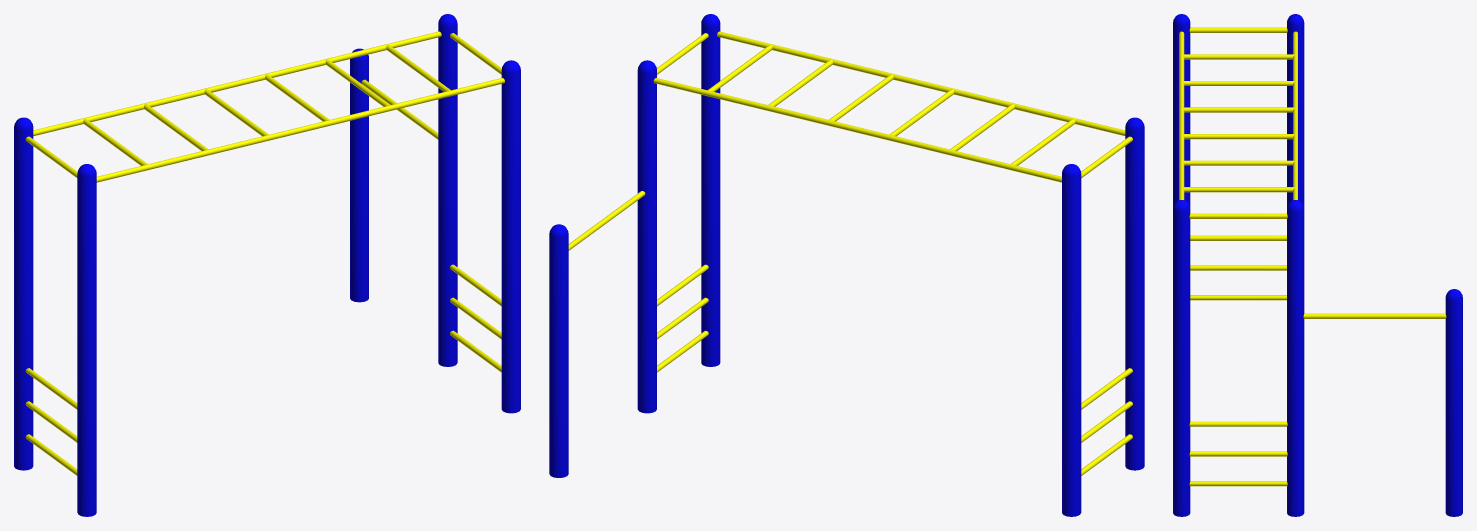
Rendered from 7_ladder.fbx.
The picture shows the model from 3 angles, left to right: view 1: azimuth 30°, elevation 25°; view 2: azimuth 150°, elevation 25°; view 3: azimuth 270°, elevation 25°; orthographic projection. The views are drawn at different scales.
Parts seen in each view (by area): view 1: monkey_bar_LOD_0_monkey_bar_mesh_26, monkey_bar_LOD_0_monkey_bar_mesh_25, monkey_bar_LOD_0_monkey_bar_mesh_27, monkey_bar_LOD_0_monkey_bar_mesh_24, monkey_bar_LOD_0_monkey_bar_mesh_23, monkey_bar_LOD_0_monkey_bar_mesh_9, monkey_bar_LOD_0_monkey_bar_mesh_8; view 2: monkey_bar_LOD_0_monkey_bar_mesh_27, monkey_bar_LOD_0_monkey_bar_mesh_24, monkey_bar_LOD_0_monkey_bar_mesh_26, monkey_bar_LOD_0_monkey_bar_mesh_25, monkey_bar_LOD_0_monkey_bar_mesh_23, monkey_bar_LOD_0_monkey_bar_mesh_8, monkey_bar_LOD_0_monkey_bar_mesh_9; view 3: monkey_bar_LOD_0_monkey_bar_mesh_24, monkey_bar_LOD_0_monkey_bar_mesh_25, monkey_bar_LOD_0_monkey_bar_mesh_23, monkey_bar_LOD_0_monkey_bar_mesh_27, monkey_bar_LOD_0_monkey_bar_mesh_26, monkey_bar_LOD_0_monkey_bar_mesh_9, monkey_bar_LOD_0_monkey_bar_mesh, monkey_bar_LOD_0_monkey_bar_mesh_8, monkey_bar_LOD_0_monkey_bar_mesh_13, monkey_bar_LOD_0_monkey_bar_mesh_15, monkey_bar_LOD_0_monkey_bar_mesh_17, monkey_bar_LOD_0_monkey_bar_mesh_12 (+10 smaller).
Boxes of the visible parts, x1,y1,x2,y2 form: monkey_bar_LOD_0_monkey_bar_mesh_26: (77, 173, 96, 516); monkey_bar_LOD_0_monkey_bar_mesh_25: (501, 70, 520, 413); monkey_bar_LOD_0_monkey_bar_mesh_27: (14, 127, 33, 470); monkey_bar_LOD_0_monkey_bar_mesh_24: (438, 23, 457, 366); monkey_bar_LOD_0_monkey_bar_mesh_23: (350, 58, 368, 302); monkey_bar_LOD_0_monkey_bar_mesh_9: (96, 78, 504, 182); monkey_bar_LOD_0_monkey_bar_mesh_8: (33, 31, 441, 136); monkey_bar_LOD_0_monkey_bar_mesh_27: (1062, 173, 1081, 516); monkey_bar_LOD_0_monkey_bar_mesh_24: (637, 70, 656, 413); monkey_bar_LOD_0_monkey_bar_mesh_26: (1125, 127, 1144, 470); monkey_bar_LOD_0_monkey_bar_mesh_25: (701, 24, 720, 366); monkey_bar_LOD_0_monkey_bar_mesh_23: (549, 234, 568, 477); monkey_bar_LOD_0_monkey_bar_mesh_8: (653, 78, 1061, 182); monkey_bar_LOD_0_monkey_bar_mesh_9: (717, 31, 1125, 135); monkey_bar_LOD_0_monkey_bar_mesh_24: (1287, 208, 1304, 516); monkey_bar_LOD_0_monkey_bar_mesh_25: (1173, 208, 1190, 516); monkey_bar_LOD_0_monkey_bar_mesh_23: (1445, 297, 1462, 516); monkey_bar_LOD_0_monkey_bar_mesh_27: (1287, 22, 1304, 207); monkey_bar_LOD_0_monkey_bar_mesh_26: (1173, 22, 1190, 207); monkey_bar_LOD_0_monkey_bar_mesh_9: (1179, 31, 1184, 200); monkey_bar_LOD_0_monkey_bar_mesh: (1303, 313, 1446, 318); monkey_bar_LOD_0_monkey_bar_mesh_8: (1293, 31, 1297, 200); monkey_bar_LOD_0_monkey_bar_mesh_13: (1182, 160, 1295, 165); monkey_bar_LOD_0_monkey_bar_mesh_15: (1182, 107, 1294, 112); monkey_bar_LOD_0_monkey_bar_mesh_17: (1182, 54, 1294, 59); monkey_bar_LOD_0_monkey_bar_mesh_12: (1182, 187, 1294, 192).
Size of the model in its own units: 132 by 84 by 100.
